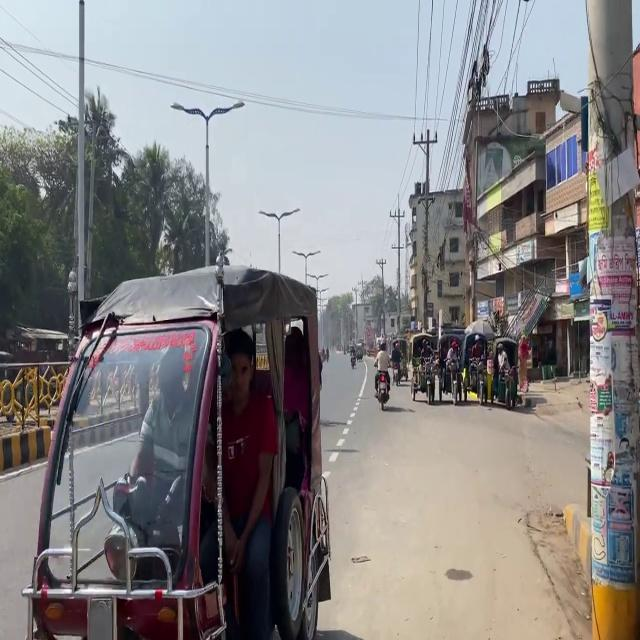Construction-barrier: (562, 501, 638, 638), (521, 504, 592, 638), (562, 502, 592, 593), (0, 423, 51, 473)
Fallen-tree: (373, 365, 391, 410), (393, 359, 407, 386), (349, 351, 357, 369)
Garbage-bin: (200, 327, 279, 639)
Light-pole: (582, 2, 640, 640)
Pothole: (364, 351, 640, 640)
Traffic-cone: (21, 259, 332, 638)
